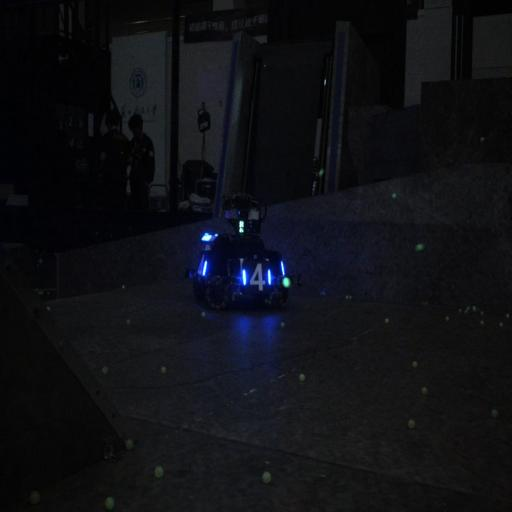target: (238, 255, 274, 298), (194, 253, 210, 288)
